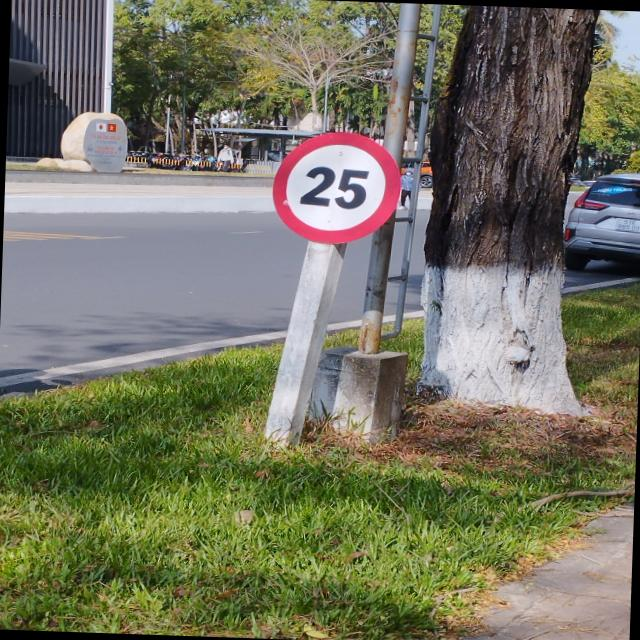Tre_Em: (270, 129, 402, 244)
